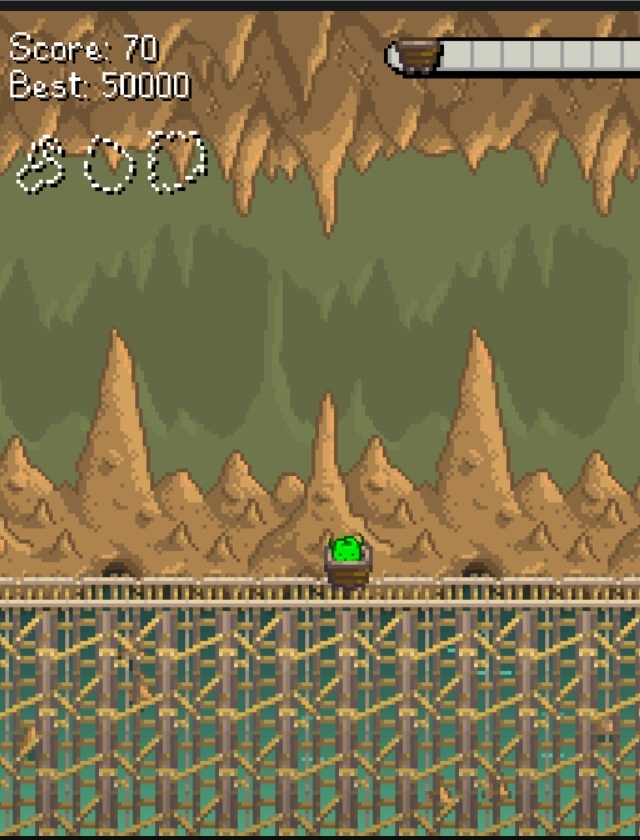minecart: (324, 534, 372, 590)
tracks: (0, 572, 300, 620)
